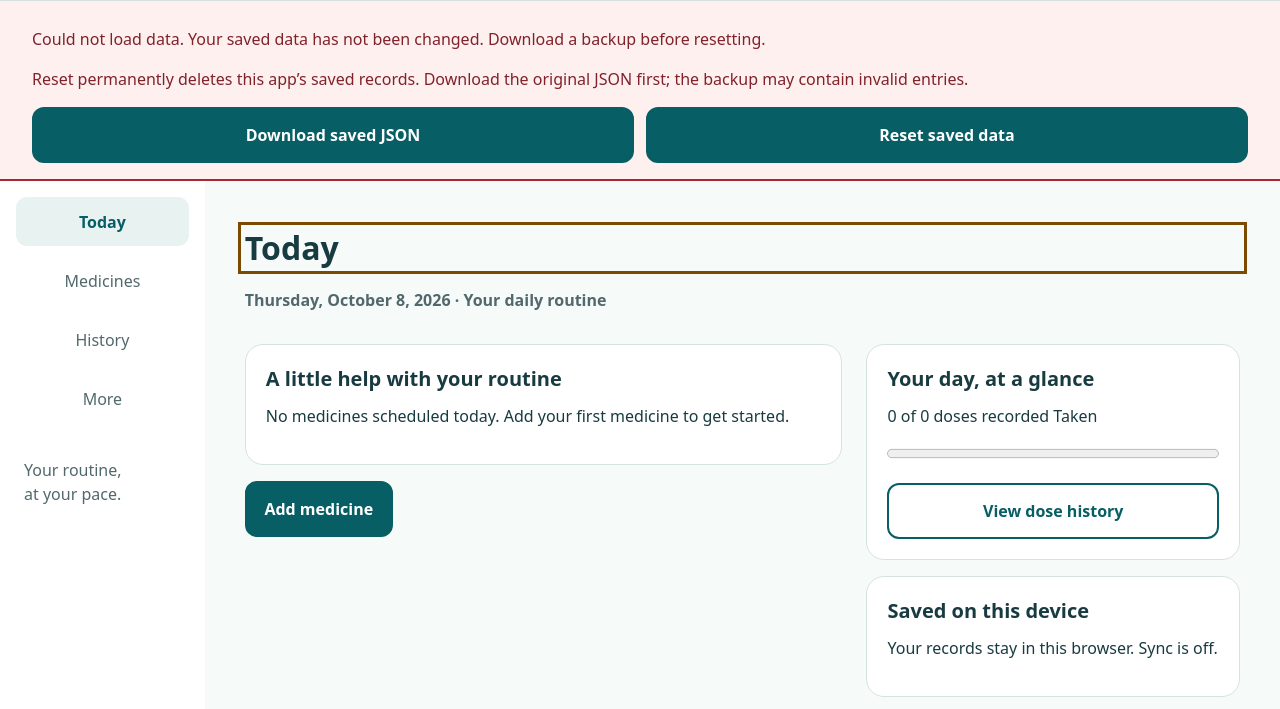
Test case: protects unreadable saved data and disables editing
Expected: the message shows "Could not load data.", 32,28 -> 766,50
Click the link "Add medicine". click: (319, 509)
box: 245,481 -> 393,537
(page scrolled)
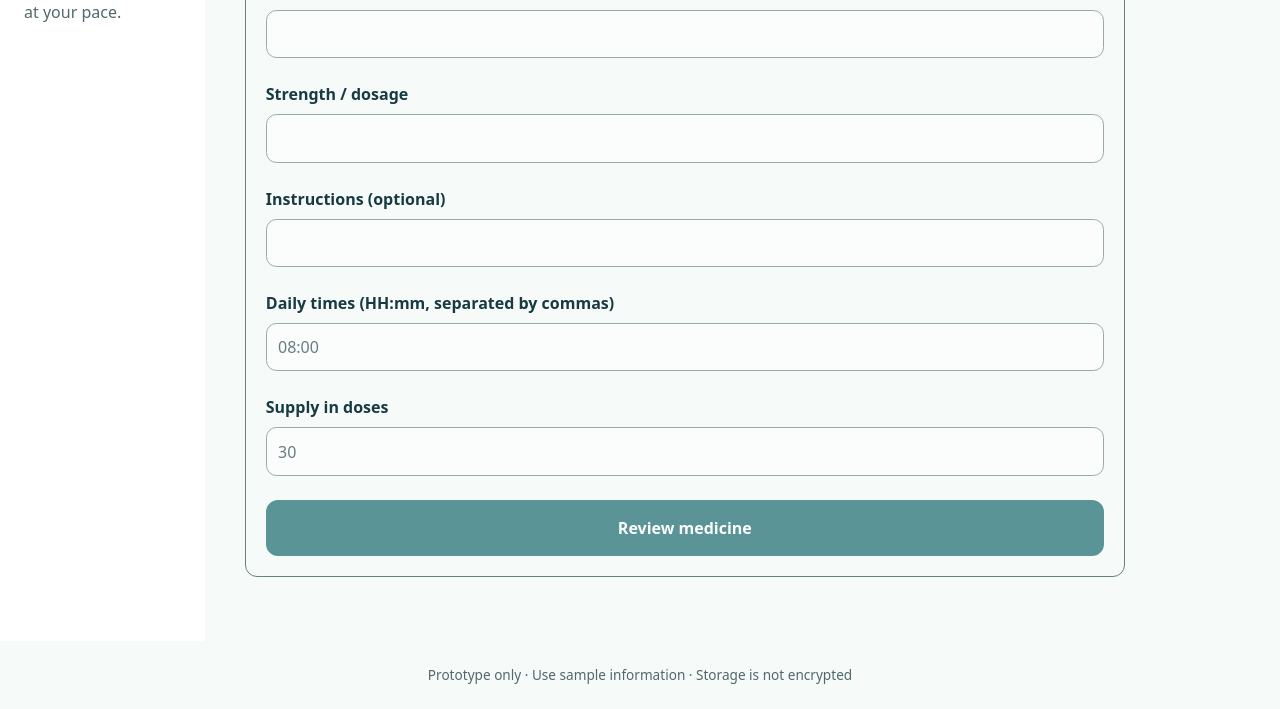
Expected: the field labelled "Medicine name" is disabled, 266,10 -> 1104,58
Expected: the button "Review medicine" is disabled, 266,500 -> 1104,556
